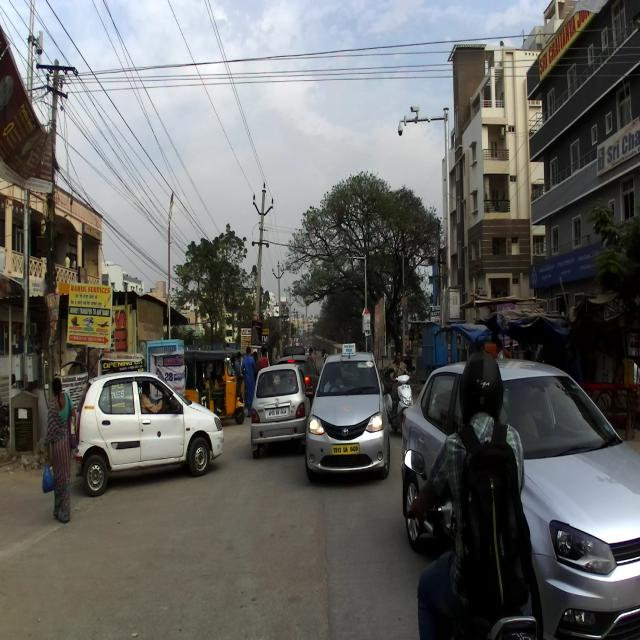car ahead at: (80, 376, 222, 493), (309, 350, 392, 480), (249, 366, 306, 451)
person ahead at: (39, 374, 78, 528)
